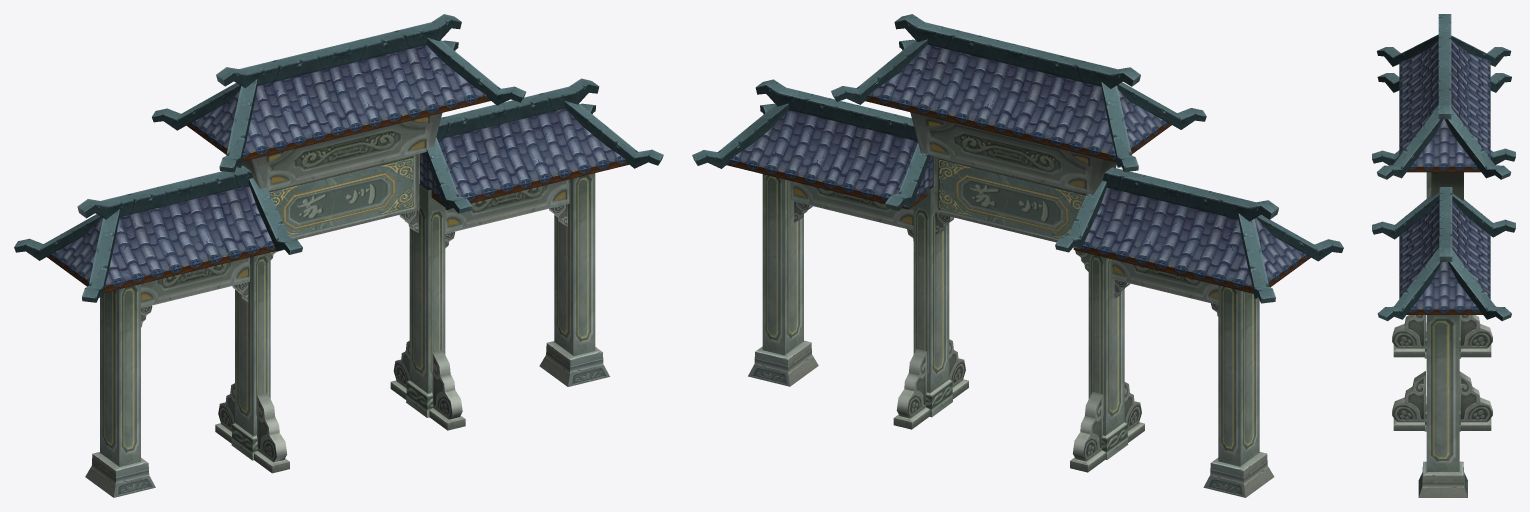
File: suzhoucheng_building_06a.FBX
The picture shows the model from 3 angles, left to right: view 1: azimuth 30°, elevation 25°; view 2: azimuth 150°, elevation 25°; view 3: azimuth 270°, elevation 25°; orthographic projection. The views are drawn at different scales.
Visible parts, largest first — view 1: suzhoucheng_building_06a; view 2: suzhoucheng_building_06a; view 3: suzhoucheng_building_06a.
Part boxes in pixels (x1=…): suzhoucheng_building_06a: x1=14, y1=14, x2=663, y2=497; suzhoucheng_building_06a: x1=692, y1=14, x2=1343, y2=497; suzhoucheng_building_06a: x1=1372, y1=14, x2=1515, y2=497.
Size of the model in its own units: 487 by 308 by 121.
